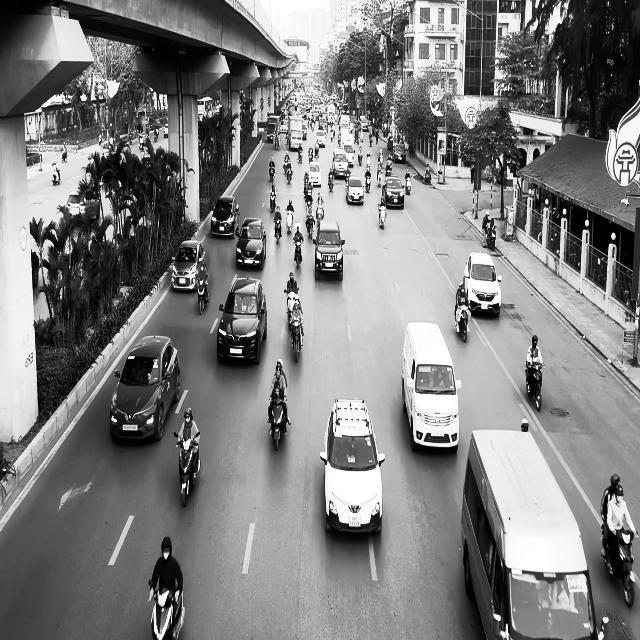bus: (460, 419, 600, 639)
car: (320, 398, 385, 535), (401, 321, 462, 452), (110, 334, 181, 442), (217, 274, 267, 365), (464, 252, 502, 316), (313, 219, 345, 281), (170, 240, 207, 292), (236, 217, 266, 270), (210, 195, 240, 238), (382, 176, 405, 210), (346, 175, 364, 205), (308, 162, 322, 186)
motorbike: (601, 522, 638, 608), (148, 579, 186, 639), (174, 431, 201, 506), (269, 396, 288, 450), (525, 362, 545, 411), (454, 302, 470, 342), (290, 318, 304, 362), (196, 278, 209, 314), (293, 238, 304, 268), (486, 223, 496, 250), (378, 202, 387, 228), (51, 161, 60, 185), (286, 208, 294, 234), (274, 219, 282, 244), (270, 187, 277, 212), (365, 170, 372, 193), (424, 169, 432, 185), (405, 175, 411, 195), (328, 174, 334, 192)
